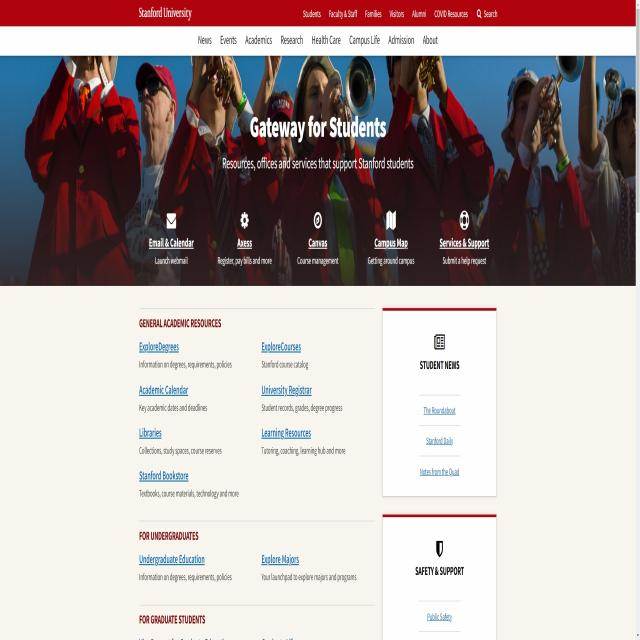search: (473, 4, 498, 22)
side-panel: (381, 304, 498, 640)
tab-bar: (196, 26, 442, 54)
